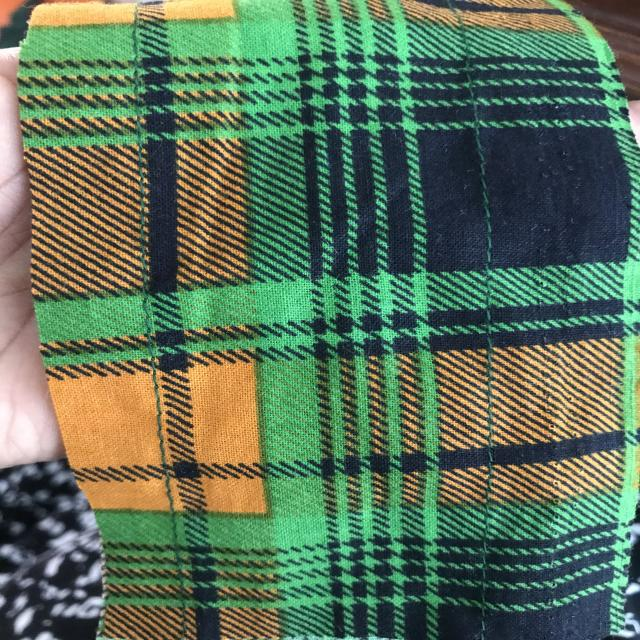good: (455, 152, 514, 258)
